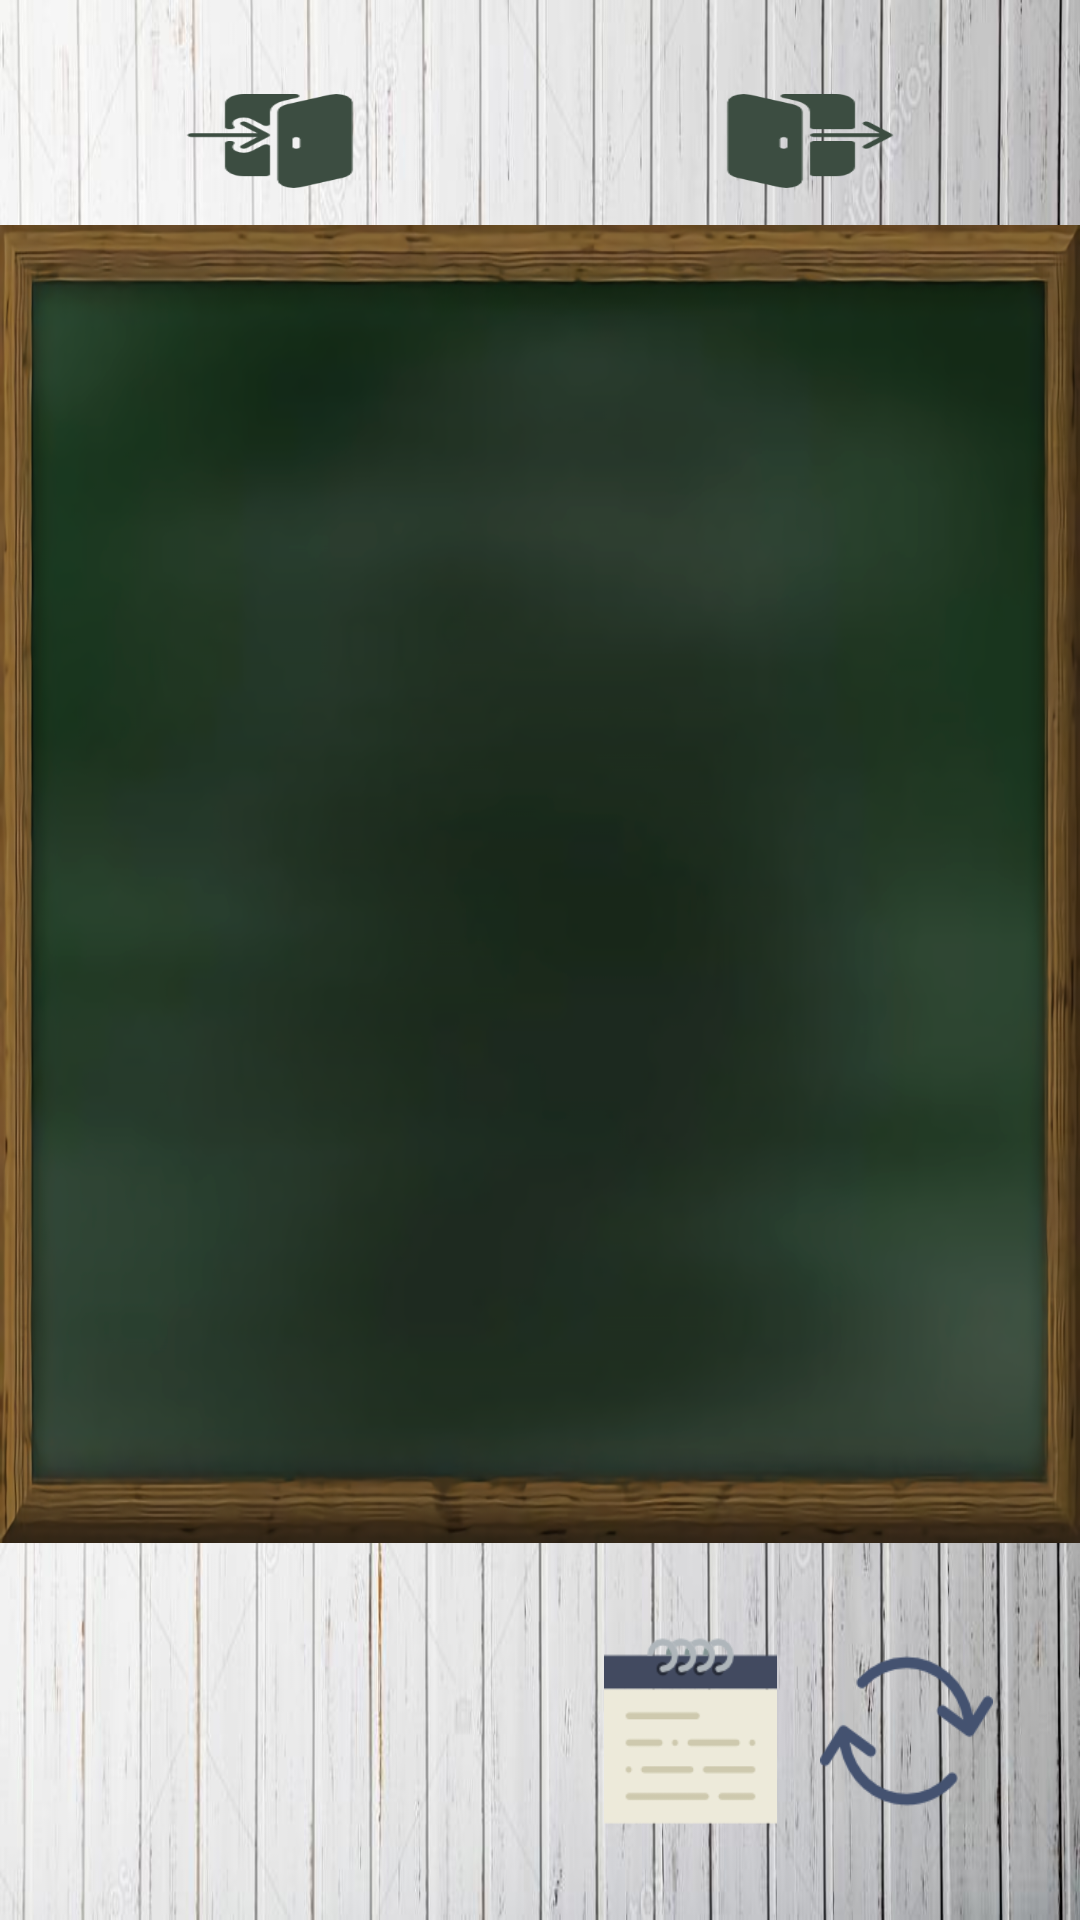

Where icons sit on this 1080px×1920px app screen, as BBox(x1, y1, x2, y2):
enterlog: BBox(187, 94, 354, 188)
exitlog: BBox(727, 94, 900, 188)
refresh: BBox(820, 1637, 993, 1825)
